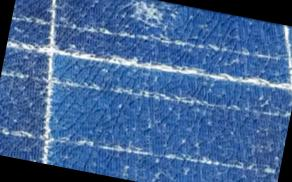Crack: (115, 0, 185, 39)
